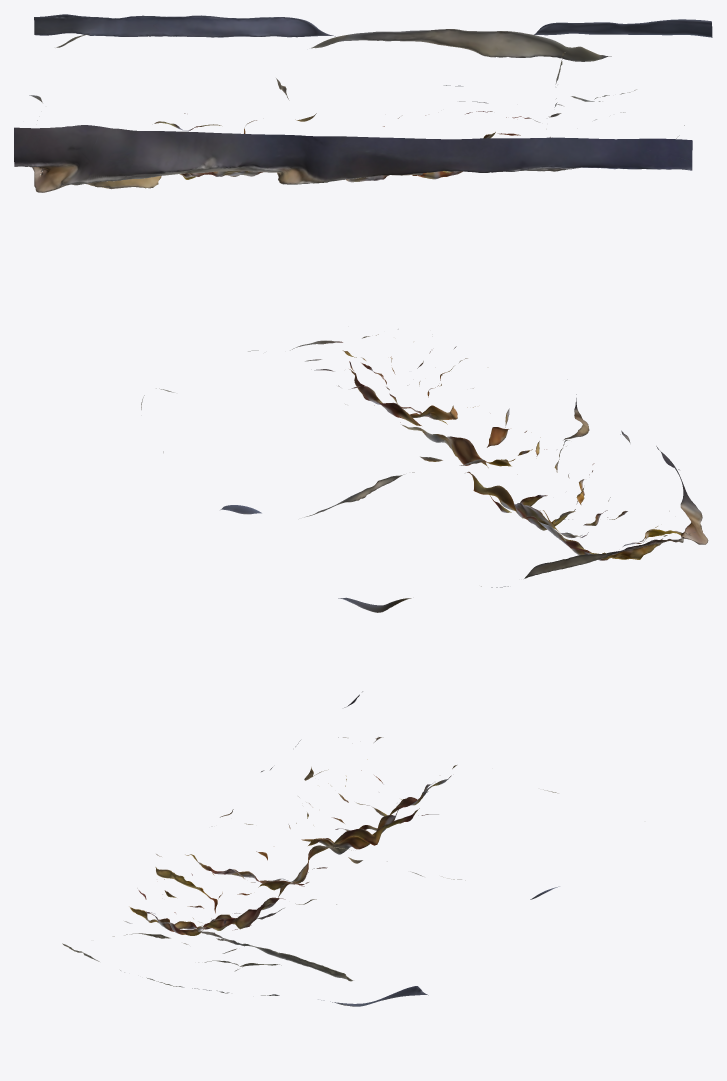
3 views of the same model, one above another, from view 1: azimuth 30°, elevation 25°; view 2: azimuth 150°, elevation 25°; view 3: azimuth 270°, elevation 25° (orthographic). The views are drawn at different scales.
Parts seen in each view (by area): view 1: 3DModel; view 2: 3DModel; view 3: 3DModel.
Part boxes in pixels (box(x1,y1,x2,y2)): 3DModel: box(14, 14, 712, 192); 3DModel: box(141, 329, 708, 612); 3DModel: box(62, 691, 559, 1006).
Bounding box in the file's own units: 1.42 × 0.1657 × 1.27.
Materials: 1 (1 with a texture image).
